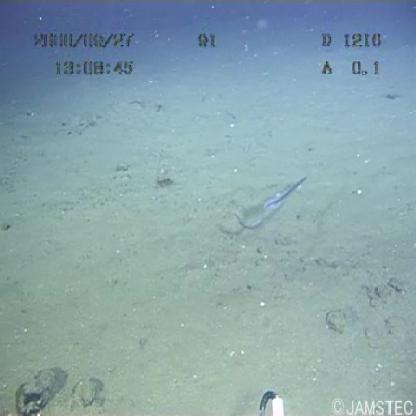Bio: (230, 166, 310, 240)
